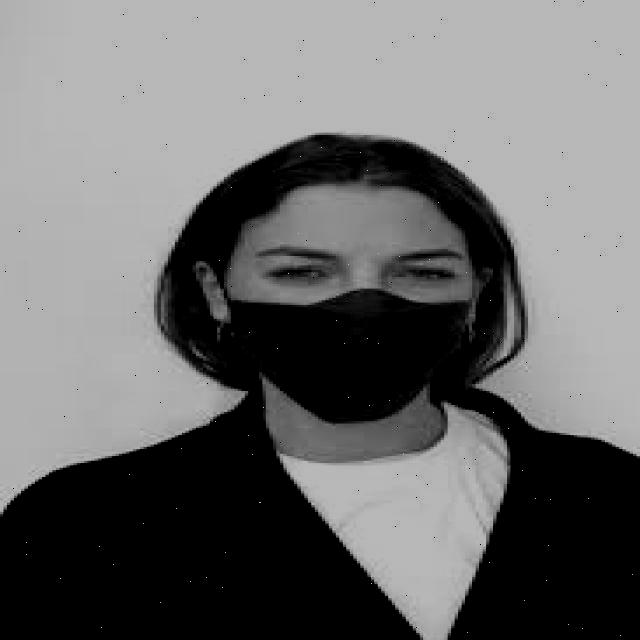fake: (229, 297, 470, 423)
real: (228, 185, 474, 429)
